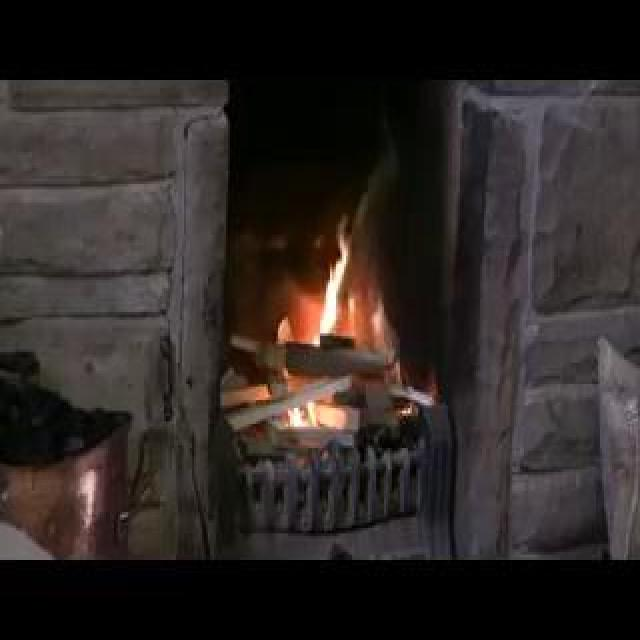fire: (328, 240, 367, 350), (293, 396, 354, 434)
